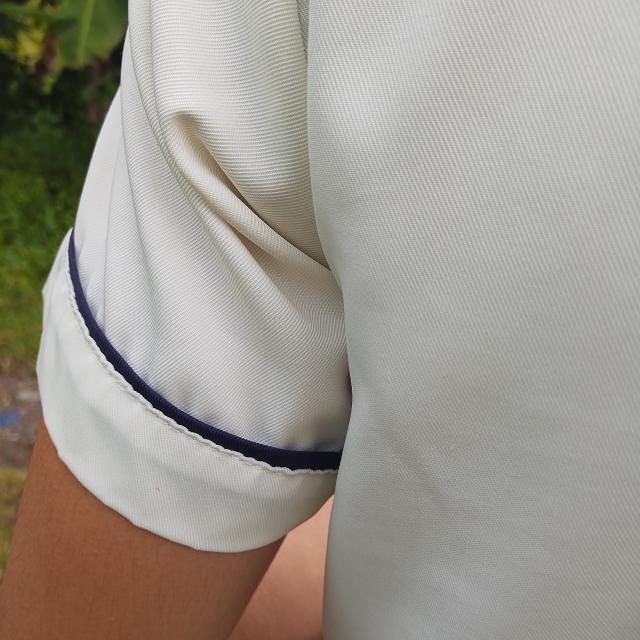education_male_uniform: (0, 0, 326, 568)
